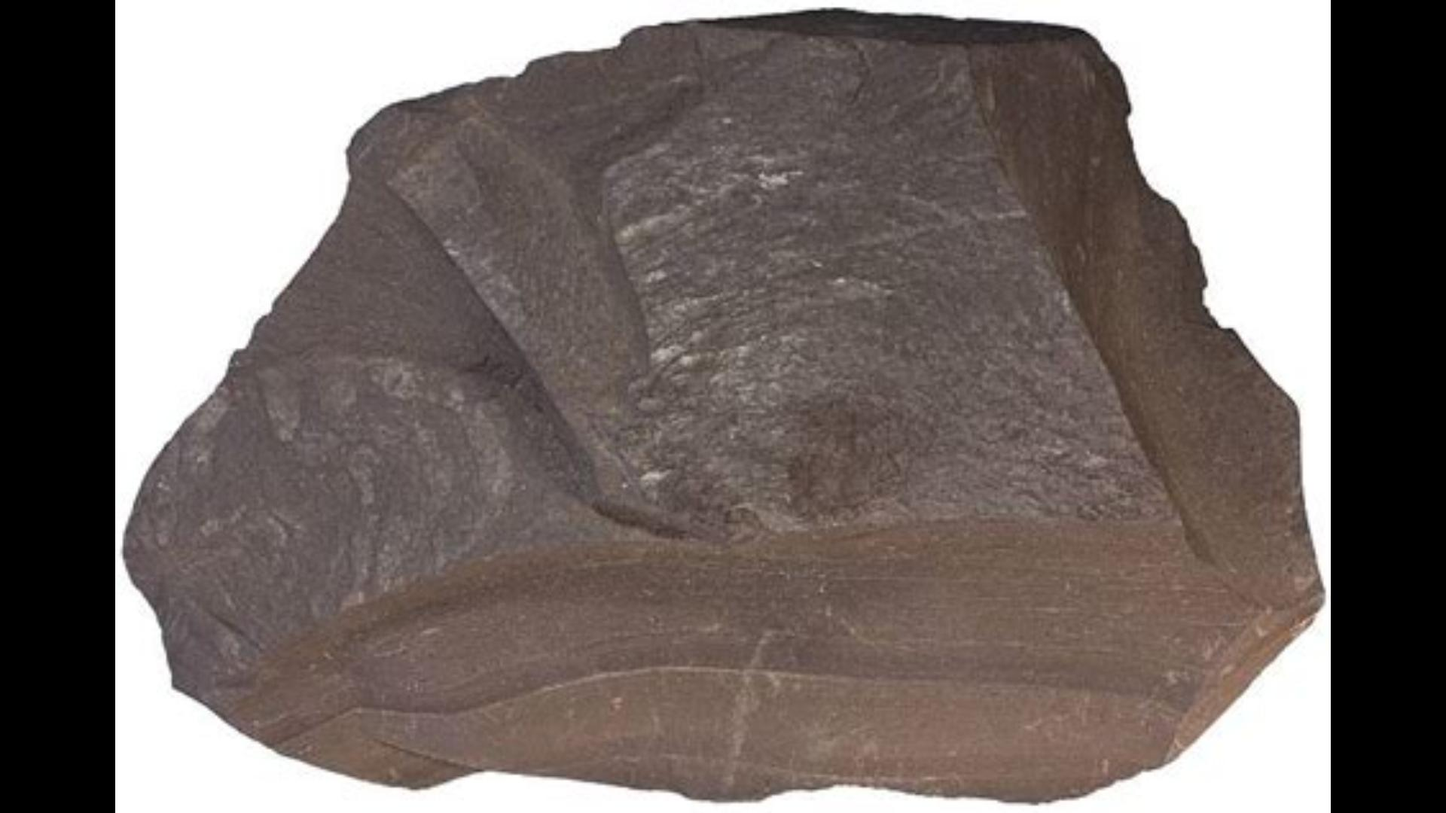rock: (125, 23, 1316, 795)
